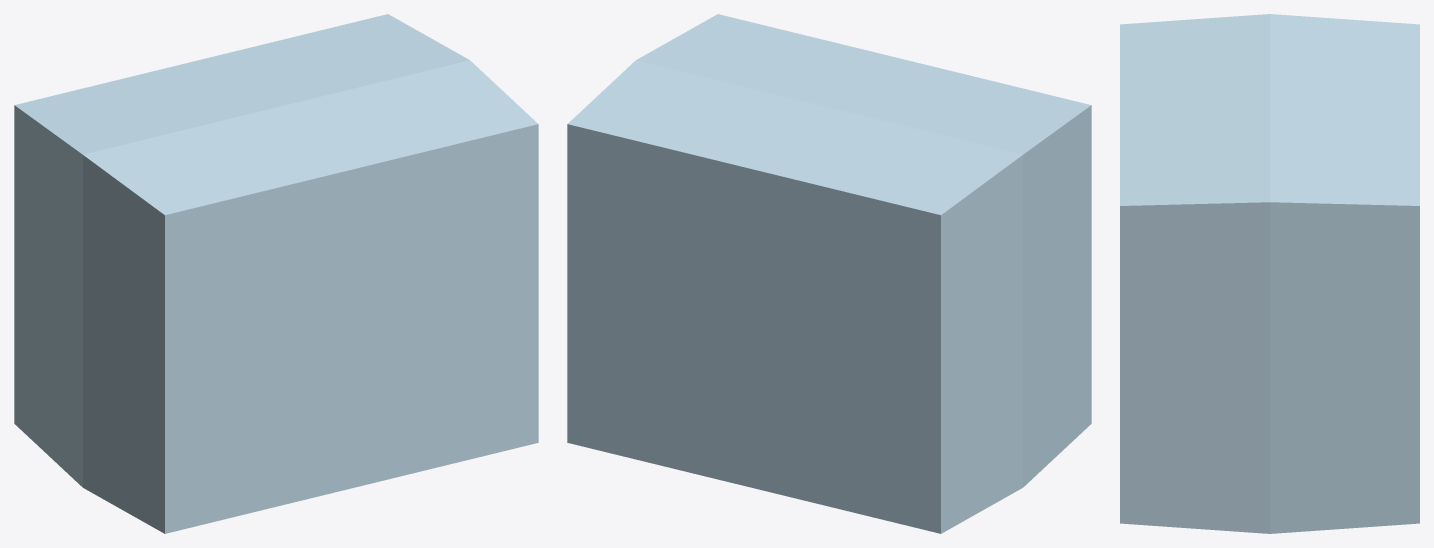
3 renders of one model, left to right at view 1: azimuth 30°, elevation 25°; view 2: azimuth 150°, elevation 25°; view 3: azimuth 270°, elevation 25°, orthographic.
Parts seen in each view (by area): view 1: Part 1; view 2: Part 1; view 3: Part 1.
Part boxes in pixels (x1,y1,x2,y2): Part 1: (14, 14, 538, 533); Part 1: (567, 14, 1091, 533); Part 1: (1120, 14, 1419, 533).
Size of the model in its own units: 0.0743 by 0.0611 by 0.05.
